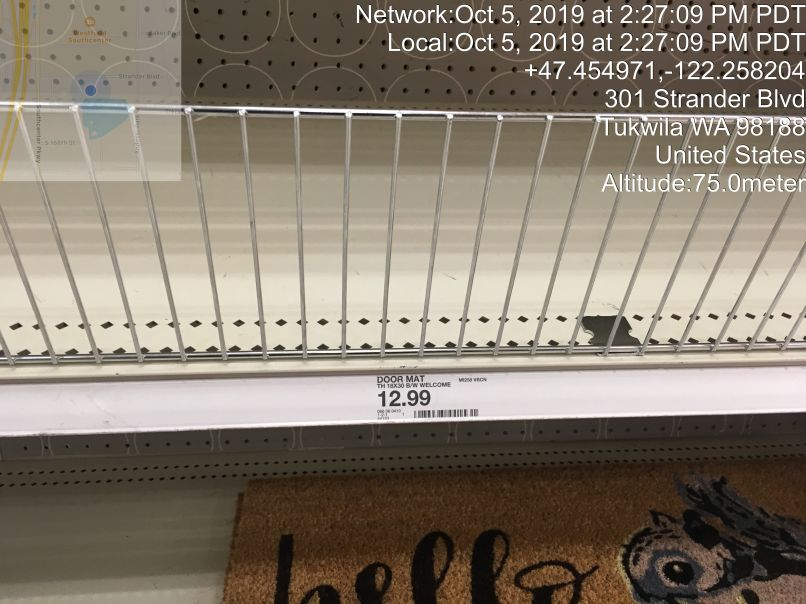Label: (371, 370, 504, 428)
Location: (588, 83, 806, 170)
Time: (349, 3, 806, 59)
Void: (14, 26, 795, 327)
